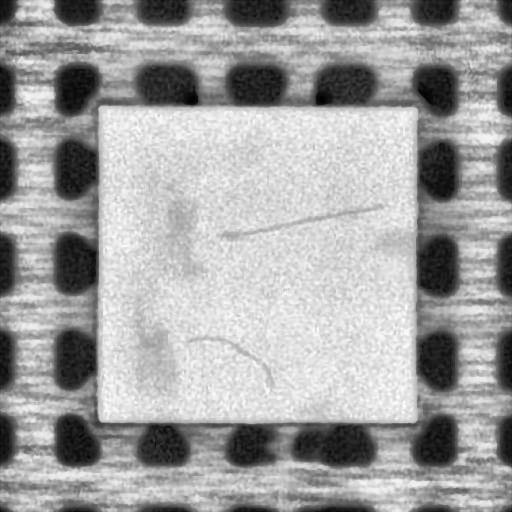DIE_CRACK: (218, 201, 383, 239), (181, 332, 271, 384)
